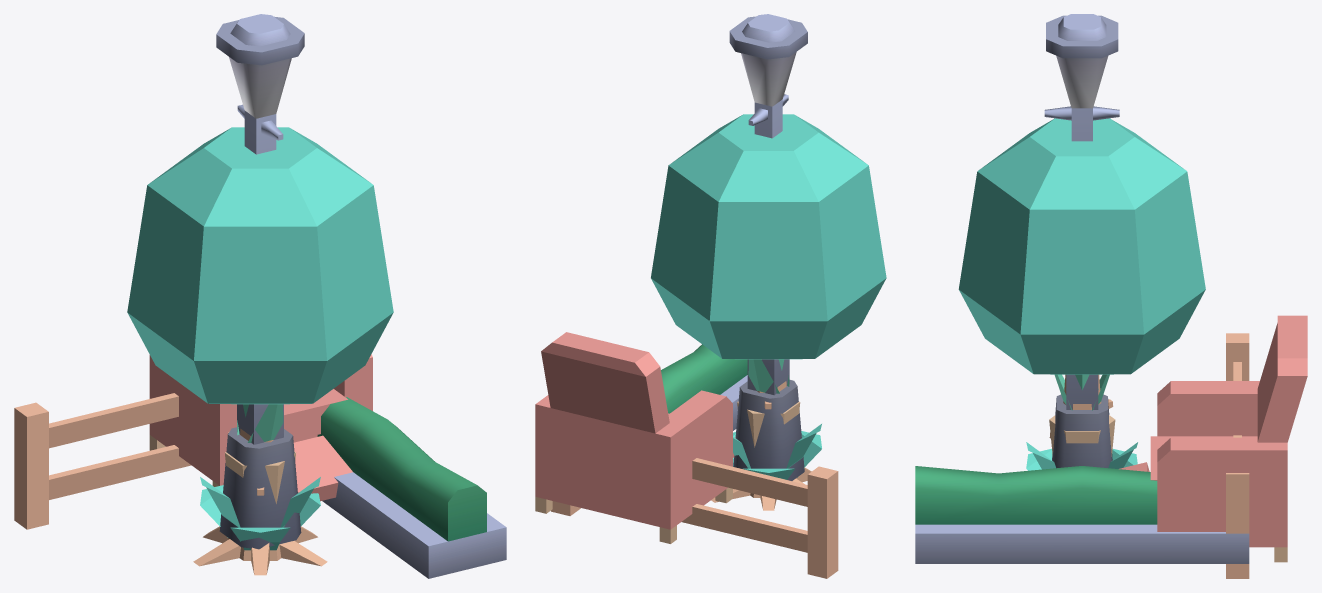
Rendered from terrace-props.glb.
3 renders of one model, left to right at view 1: azimuth 30°, elevation 25°; view 2: azimuth 150°, elevation 25°; view 3: azimuth 270°, elevation 25°, orthographic. The views are drawn at different scales.
Visible parts, largest first — view 1: tree_oak, hedge, lantern, fence_wood, lounge_chair, bush_large, potted_plant; view 2: tree_oak, lounge_chair, lantern, fence_wood, hedge, bush_large, potted_plant; view 3: tree_oak, hedge, lounge_chair, lantern, fence_wood, potted_plant, bush_large.
Part boxes in pixels (x1,y1,x2,y2): tree_oak: [127, 127, 393, 575]; hedge: [317, 397, 506, 578]; lantern: [216, 14, 304, 549]; fence_wood: [14, 393, 191, 529]; lounge_chair: [149, 354, 372, 501]; bush_large: [200, 477, 320, 550]; potted_plant: [225, 404, 295, 503]; tree_oak: [651, 114, 886, 510]; lounge_chair: [535, 332, 735, 543]; lantern: [729, 14, 807, 480]; fence_wood: [551, 458, 838, 578]; hedge: [661, 344, 747, 430]; bush_large: [733, 424, 821, 479]; potted_plant: [737, 359, 800, 447]; tree_oak: [958, 118, 1205, 438]; hedge: [915, 466, 1249, 563]; lounge_chair: [1119, 315, 1307, 562]; lantern: [1044, 14, 1119, 468]; fence_wood: [1226, 333, 1249, 578]; potted_plant: [1049, 374, 1115, 456]; bush_large: [1026, 442, 1137, 470].
Size of the model in its own units: 1 by 1.61 by 1.17.
Materials: 11 (1 with a texture image).
